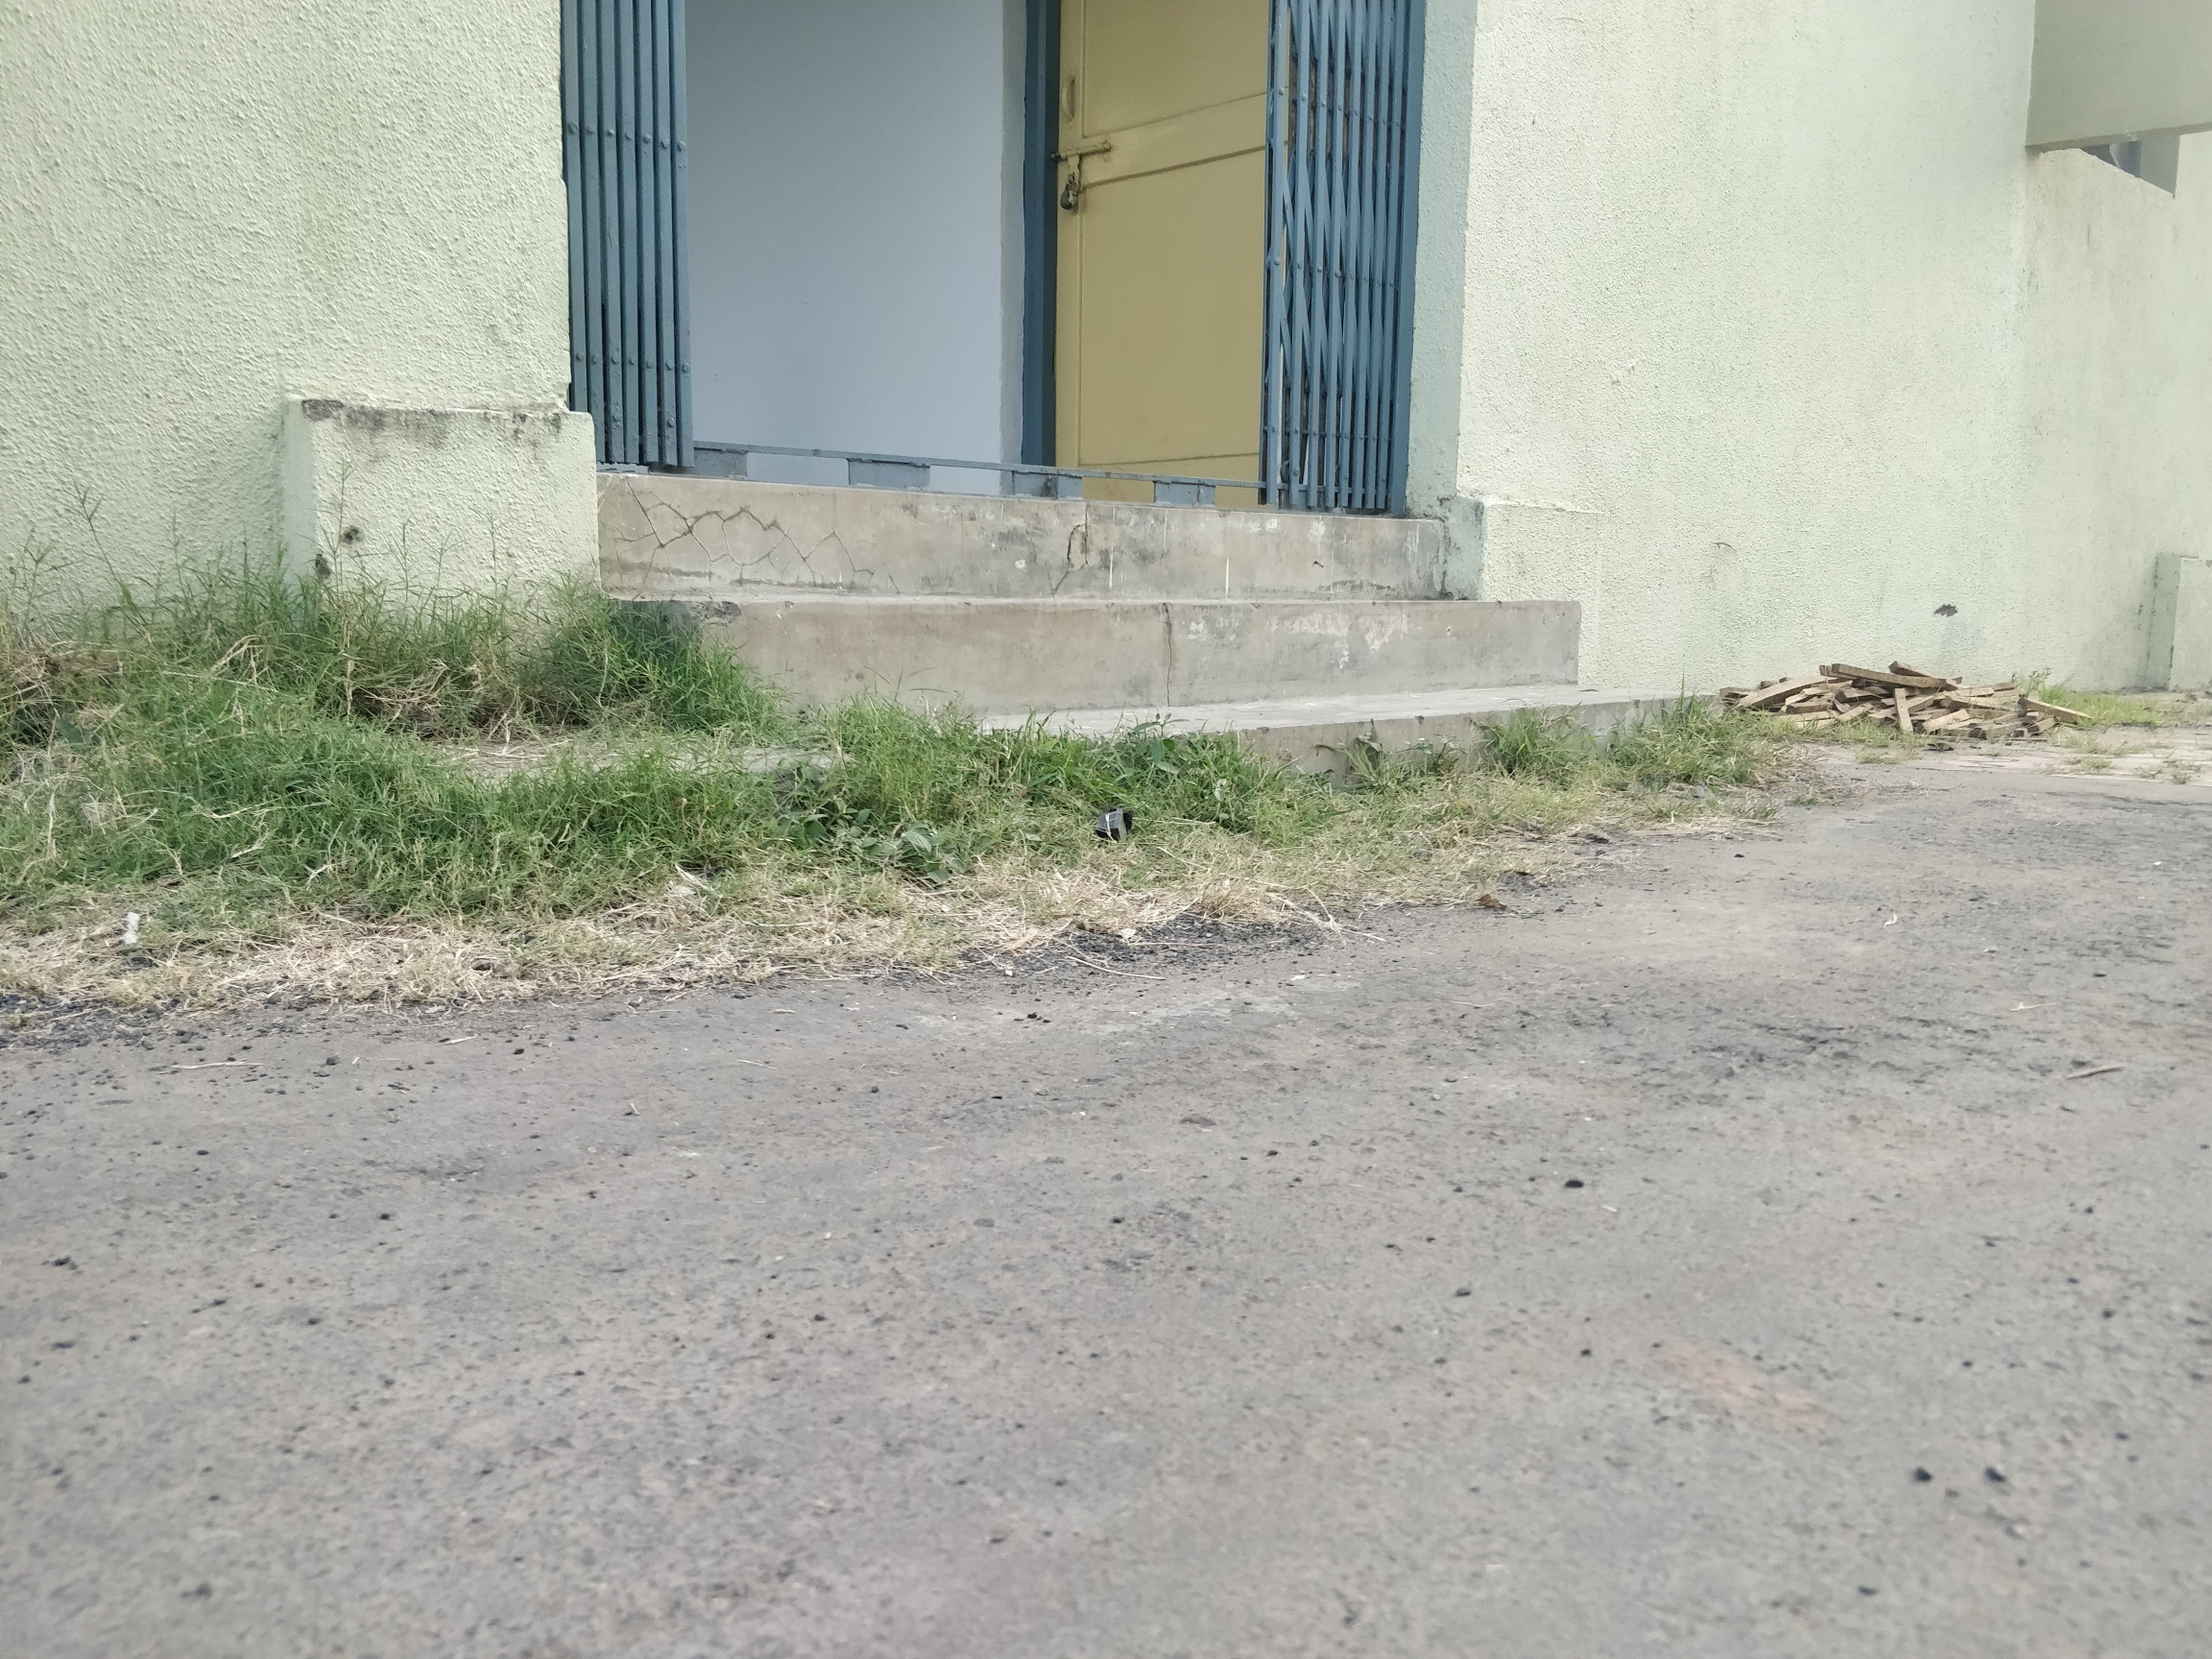stairs_up: (592, 465, 1721, 788)
